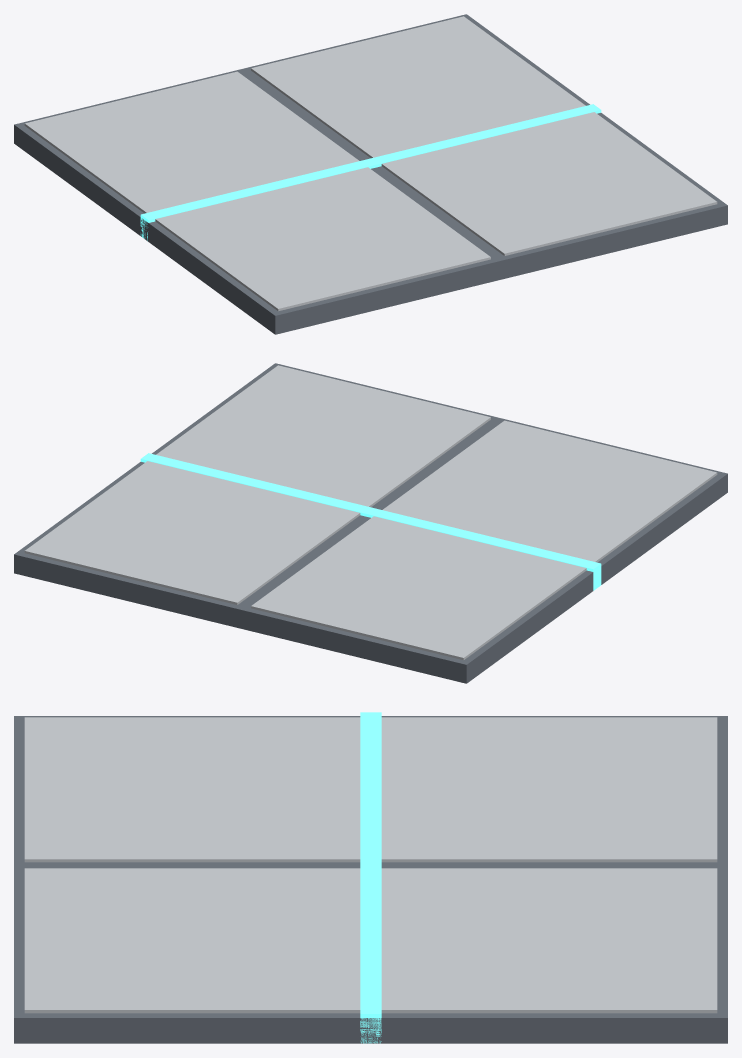
Rendered from floor_panel.fbx.
3 views of the same model, one above another, from view 1: azimuth 30°, elevation 25°; view 2: azimuth 150°, elevation 25°; view 3: azimuth 270°, elevation 25° (orthographic). The views are drawn at different scales.
Visible parts, largest first — view 1: floor_panel; view 2: floor_panel; view 3: floor_panel.
Part boxes in pixels (bbox=[...]): floor_panel: bbox=[14, 14, 727, 334]; floor_panel: bbox=[14, 363, 727, 683]; floor_panel: bbox=[14, 712, 727, 1043].
Bounding box in the file's own units: 2 × 0.092 × 2.
